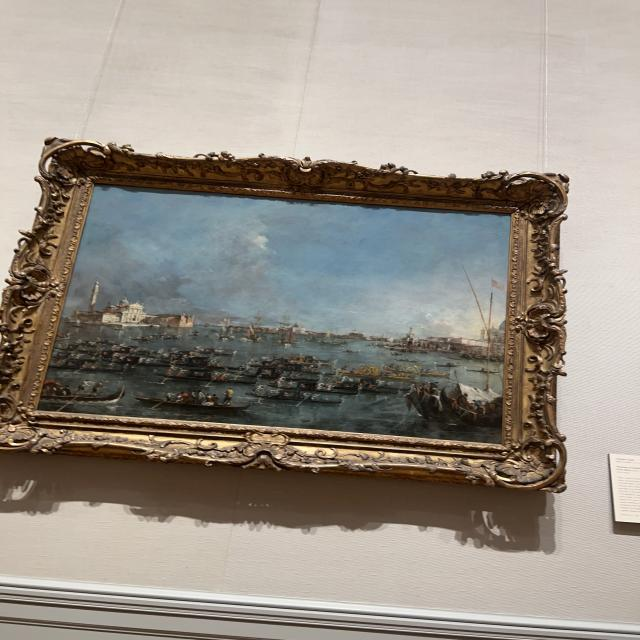ships: (38, 188, 504, 437)
